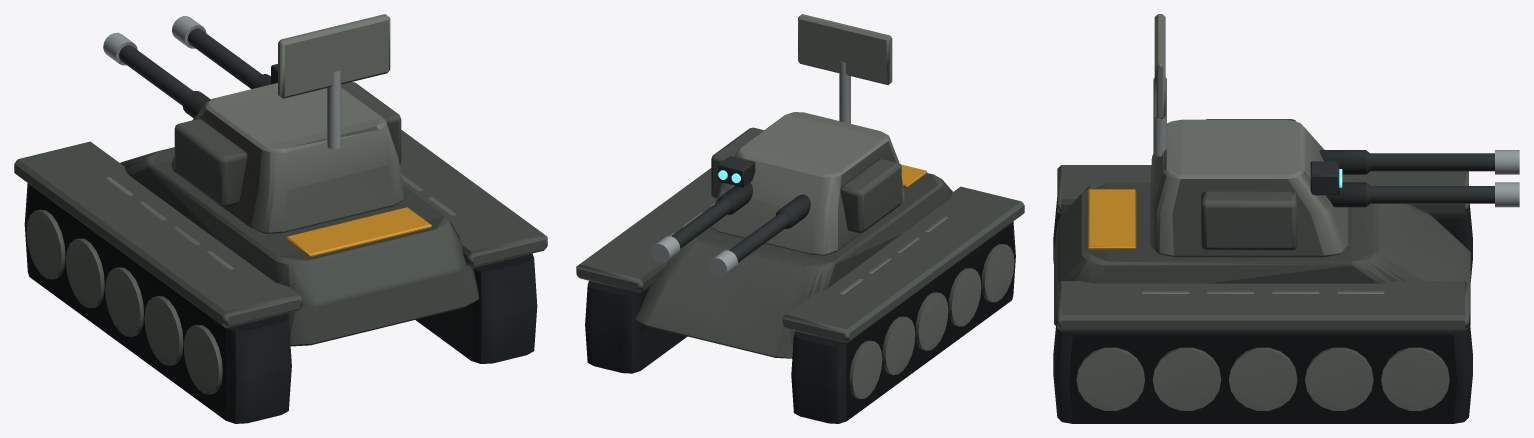
File: AntiAirVehicle.glb
The picture shows the model from 3 angles, left to right: view 1: azimuth 30°, elevation 25°; view 2: azimuth 150°, elevation 25°; view 3: azimuth 270°, elevation 25°; orthographic projection. The views are drawn at different scales.
Parts seen in each view (by area): view 1: export_bastion_AntiAirVehicle_TrackBelt, export_bastion_AntiAirVehicle_Turret, export_bastion_AntiAirVehicle_RadarDish, export_bastion_AntiAirVehicle_Autocannon; view 2: export_bastion_AntiAirVehicle_TrackBelt, export_bastion_AntiAirVehicle_Turret, export_bastion_AntiAirVehicle_RadarDish, export_bastion_AntiAirVehicle_Autocannon; view 3: export_bastion_AntiAirVehicle_TrackBelt, export_bastion_AntiAirVehicle_Turret, export_bastion_AntiAirVehicle_Autocannon, export_bastion_AntiAirVehicle_RadarDish.
Part boxes in pixels (x1,y1,x2,y2): export_bastion_AntiAirVehicle_TrackBelt: [14, 130, 547, 423]; export_bastion_AntiAirVehicle_Turret: [171, 64, 405, 233]; export_bastion_AntiAirVehicle_RadarDish: [278, 14, 390, 98]; export_bastion_AntiAirVehicle_Autocannon: [103, 16, 270, 118]; export_bastion_AntiAirVehicle_TrackBelt: [576, 164, 1024, 423]; export_bastion_AntiAirVehicle_Turret: [710, 61, 904, 255]; export_bastion_AntiAirVehicle_RadarDish: [798, 14, 892, 84]; export_bastion_AntiAirVehicle_Autocannon: [651, 182, 810, 277]; export_bastion_AntiAirVehicle_TrackBelt: [1053, 165, 1472, 423]; export_bastion_AntiAirVehicle_Turret: [1150, 77, 1347, 257]; export_bastion_AntiAirVehicle_Autocannon: [1319, 150, 1519, 207]; export_bastion_AntiAirVehicle_RadarDish: [1154, 14, 1165, 119].
Size of the model in its own units: 2.65 by 2.51 by 3.4.
